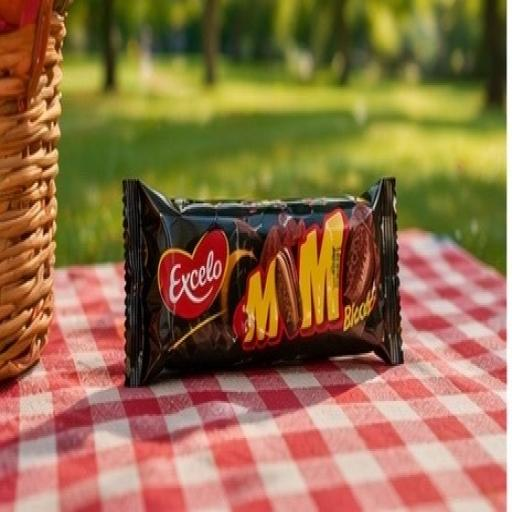MOMO: (104, 135, 446, 448)
